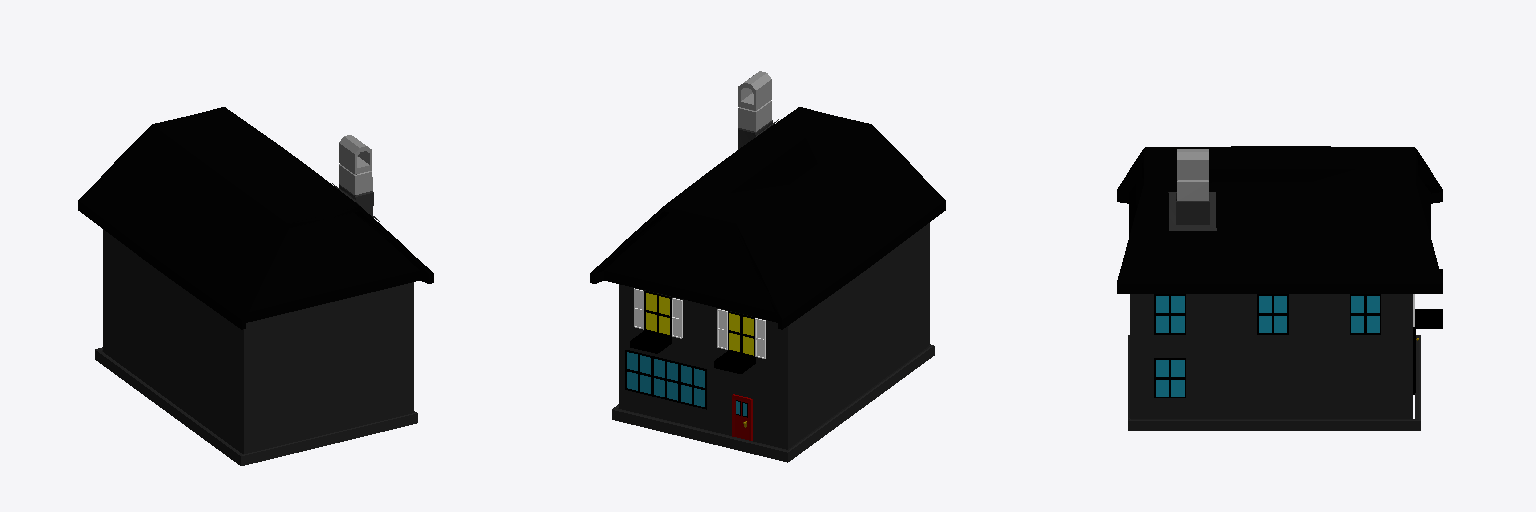
File: House_2.obj
3 views of the same model, side by side, from view 1: azimuth 30°, elevation 25°; view 2: azimuth 150°, elevation 25°; view 3: azimuth 270°, elevation 25° (orthographic).
Visible parts, largest first — view 1: Roof_top_stright004, house_5, house_006, house_base007, Smoke_stack_2; view 2: Roof_top_stright004, house_5, house_006, house_base007, window_with_box017, window_with_box018, Smoke_stack_2, window026, window024, window025, Door_single001; view 3: Roof_top_stright004, house_5, house_006, house_base007, Smoke_stack_2, base_for_smokestack002, window020, window021, window022, window023, window_with_box018.
Boxes of the visible parts, x1,y1,x2,y2 form: Roof_top_stright004: [78, 107, 433, 329]; house_5: [103, 288, 413, 453]; house_006: [103, 229, 413, 390]; house_base007: [95, 347, 417, 465]; Smoke_stack_2: [339, 135, 372, 194]; Roof_top_stright004: [590, 107, 945, 329]; house_5: [619, 280, 929, 449]; house_006: [619, 223, 929, 384]; house_base007: [612, 344, 934, 462]; window_with_box017: [714, 309, 765, 373]; window_with_box018: [630, 288, 682, 353]; Smoke_stack_2: [738, 71, 771, 131]; window026: [679, 363, 706, 409]; window024: [625, 350, 652, 396]; window025: [652, 356, 679, 402]; Door_single001: [732, 394, 752, 440]; Roof_top_stright004: [1117, 146, 1442, 293]; house_5: [1130, 355, 1412, 418]; house_006: [1130, 294, 1412, 354]; house_base007: [1128, 335, 1420, 430]; Smoke_stack_2: [1177, 149, 1208, 200]; base_for_smokestack002: [1168, 192, 1216, 230]; window020: [1257, 294, 1288, 334]; window021: [1154, 294, 1185, 334]; window022: [1154, 358, 1185, 397]; window023: [1350, 294, 1380, 334]; window_with_box018: [1413, 294, 1442, 328].
Size of the model in its own units: 10.33 by 13.46 by 14.98.